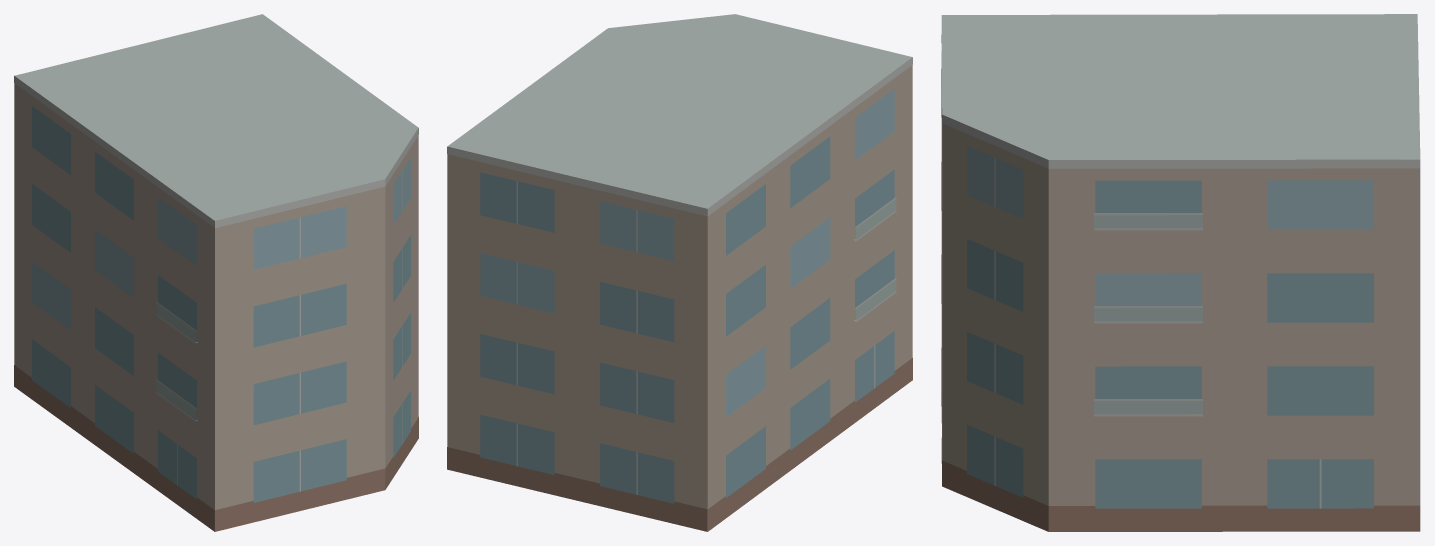
The model's file is survey-upis-32520146.glb.
3 renders of one model, left to right at view 1: azimuth 30°, elevation 25°; view 2: azimuth 150°, elevation 25°; view 3: azimuth 270°, elevation 25°, orthographic. The views are drawn at different scales.
Visible parts, largest first — view 1: survey-upis-32520146.tmp; view 2: survey-upis-32520146.tmp; view 3: survey-upis-32520146.tmp.
Boxes of the visible parts, <box> form: survey-upis-32520146.tmp: <box>14,14,418,531</box>; survey-upis-32520146.tmp: <box>447,14,912,531</box>; survey-upis-32520146.tmp: <box>941,14,1420,531</box>.
Bounding box in the file's own units: 8.8 × 10.4 × 12.15.
